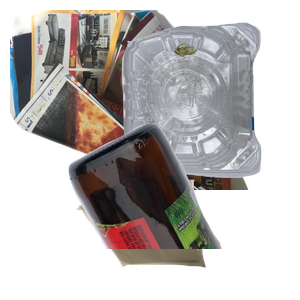glass: (66, 120, 300, 300)
paper: (10, 10, 250, 190)
plastic: (119, 20, 300, 190)
trash: (74, 148, 273, 300)
